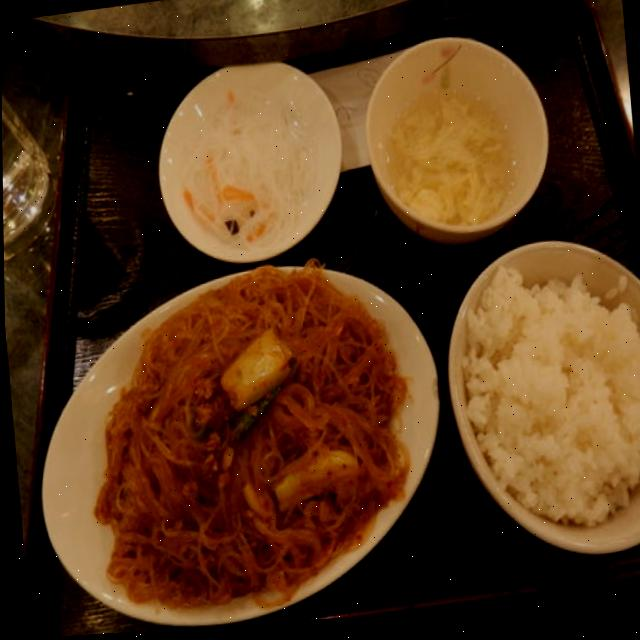米饭主食: (435, 231, 640, 578)
